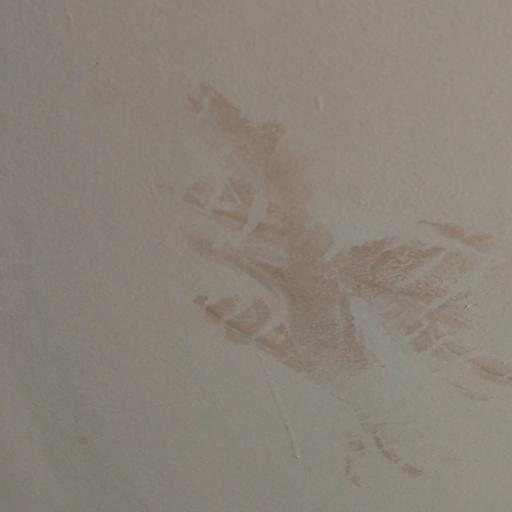stain: (155, 56, 512, 487)
